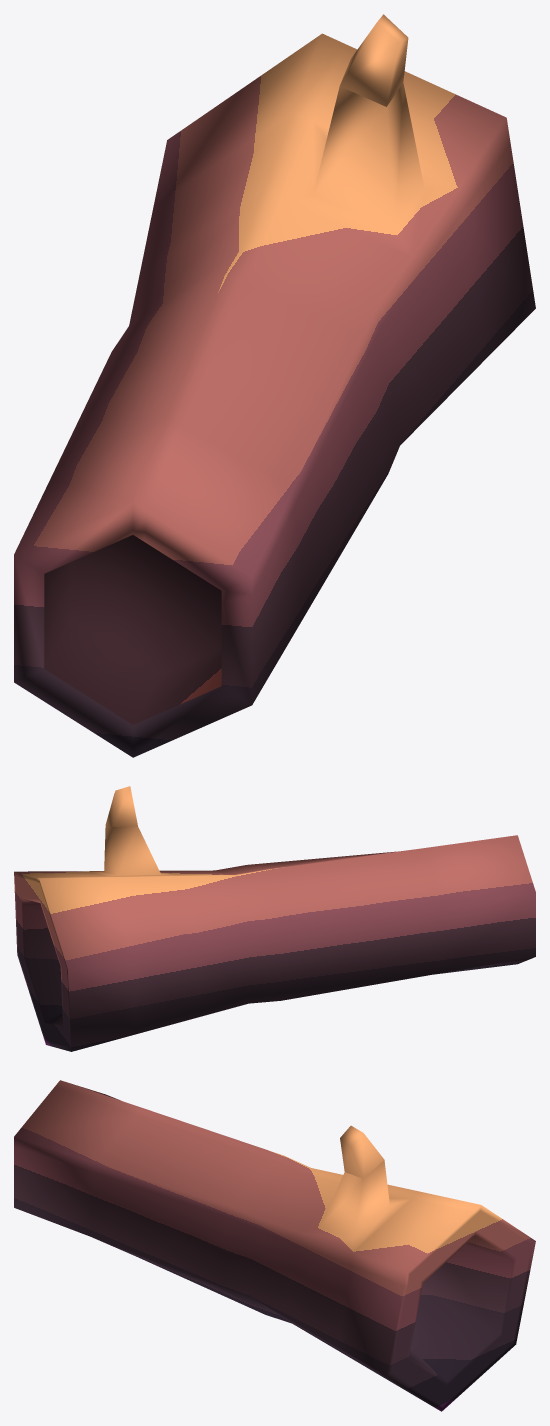
File: Trunk_Obstacle.fbx
3 views of the same model, one above another, from view 1: azimuth 30°, elevation 25°; view 2: azimuth 150°, elevation 25°; view 3: azimuth 270°, elevation 25° (orthographic). The views are drawn at different scales.
Visible parts, largest first — view 1: Boulder; view 2: Boulder; view 3: Boulder.
Boxes of the visible parts, left/top/right/bottom form: Boulder: left=14, top=14, right=535, bottom=757; Boulder: left=14, top=786, right=535, bottom=1051; Boulder: left=14, top=1080, right=535, bottom=1411.
Bounding box in the file's own units: 623 × 364 × 654.
1 material, 1 textured.
